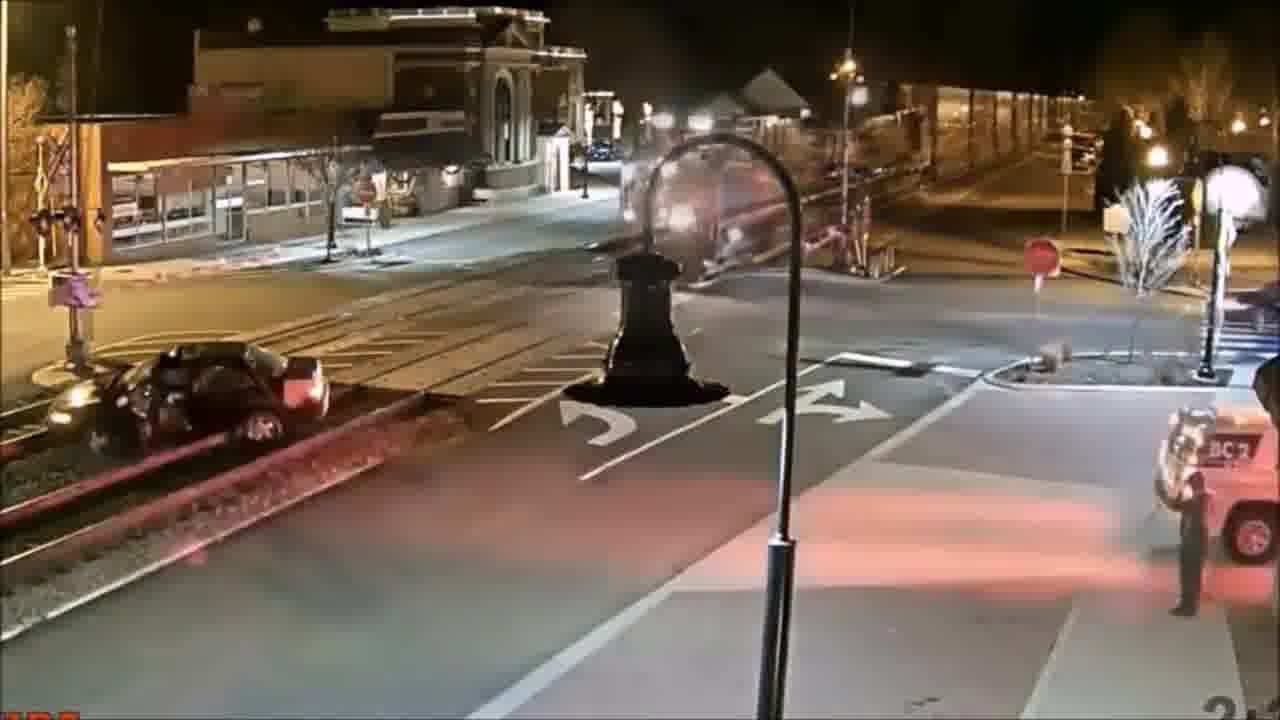crossing railway track: (35, 322, 319, 467)
